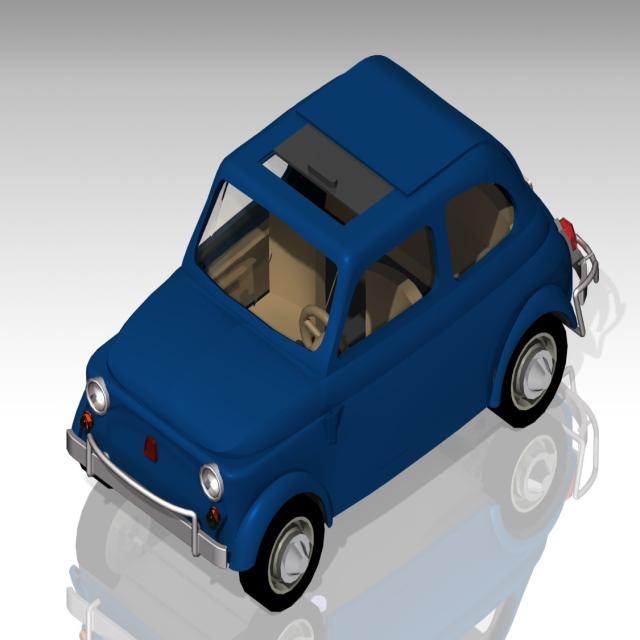Car: (65, 52, 600, 613)
